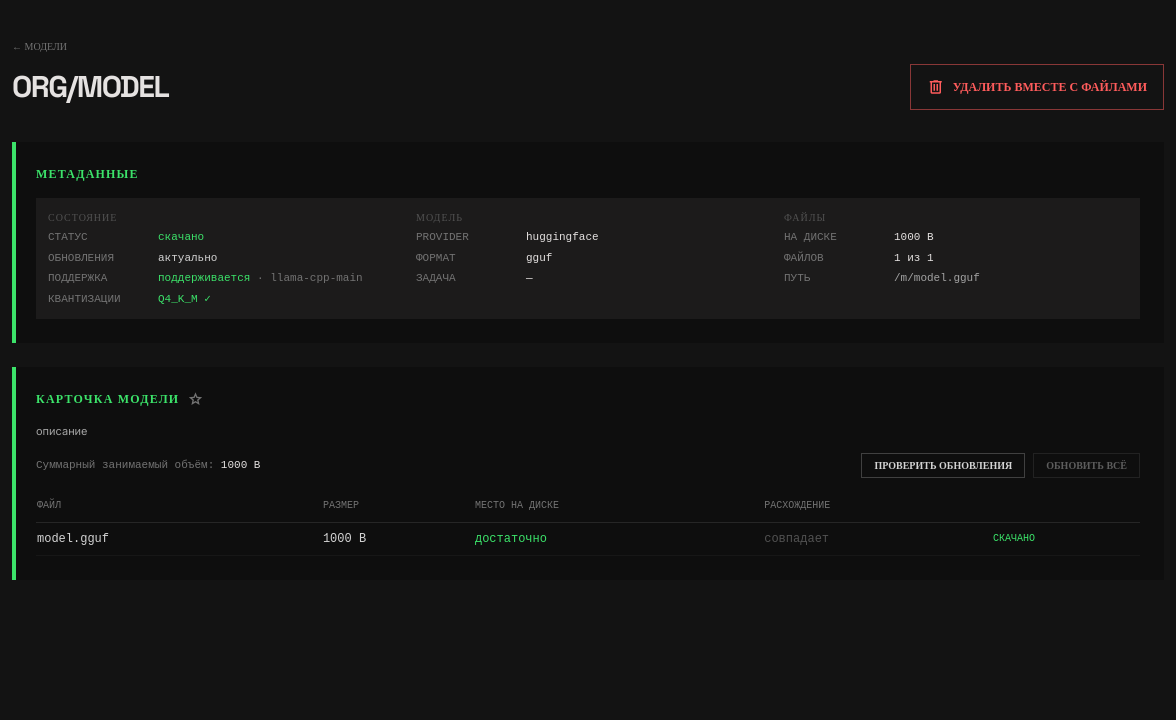
Test case: ModelDetailPage — проверка обновлений в карточке › перечитывает расхождение и включает обновление
Expected: the button with test id "update-all" is disabled, [1033,453,1140,478]
Click the button with test id "check-this-model" at x=943, y=465, box [861,453,1025,478]
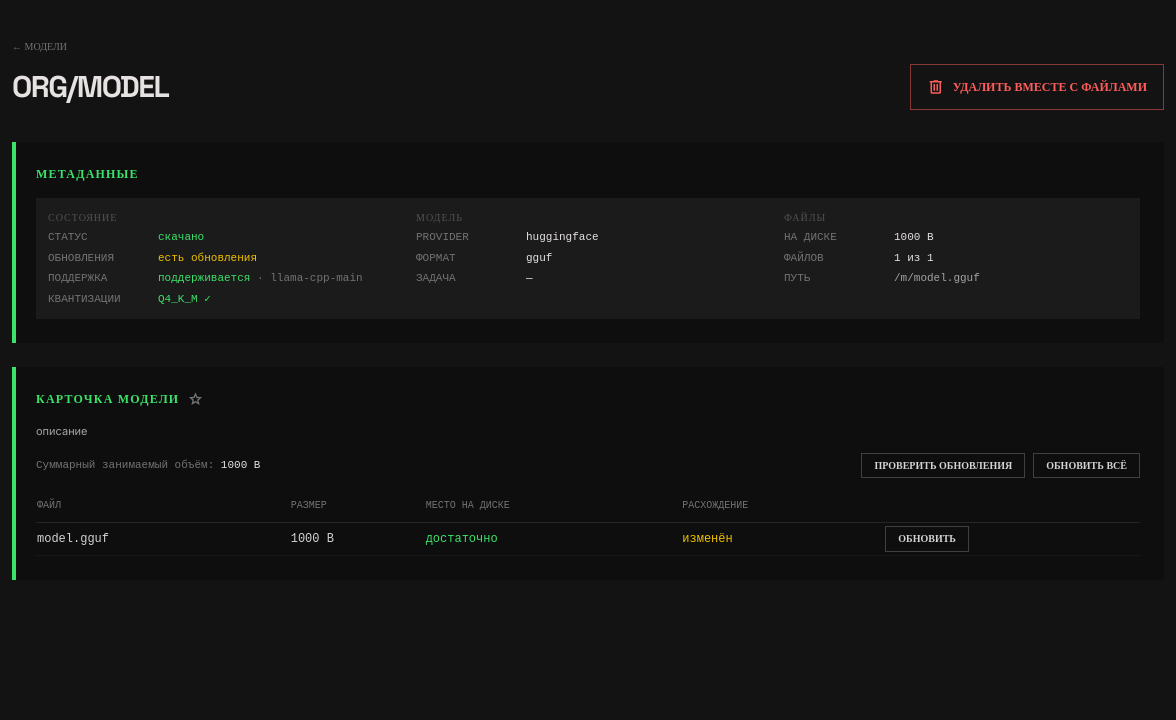
Expected: the button with test id "update-all" is enabled, [1033,453,1140,478]
Expected: the cell with test id "sync-state-model.gguf" reads "изменён", [682,532,733,546]
